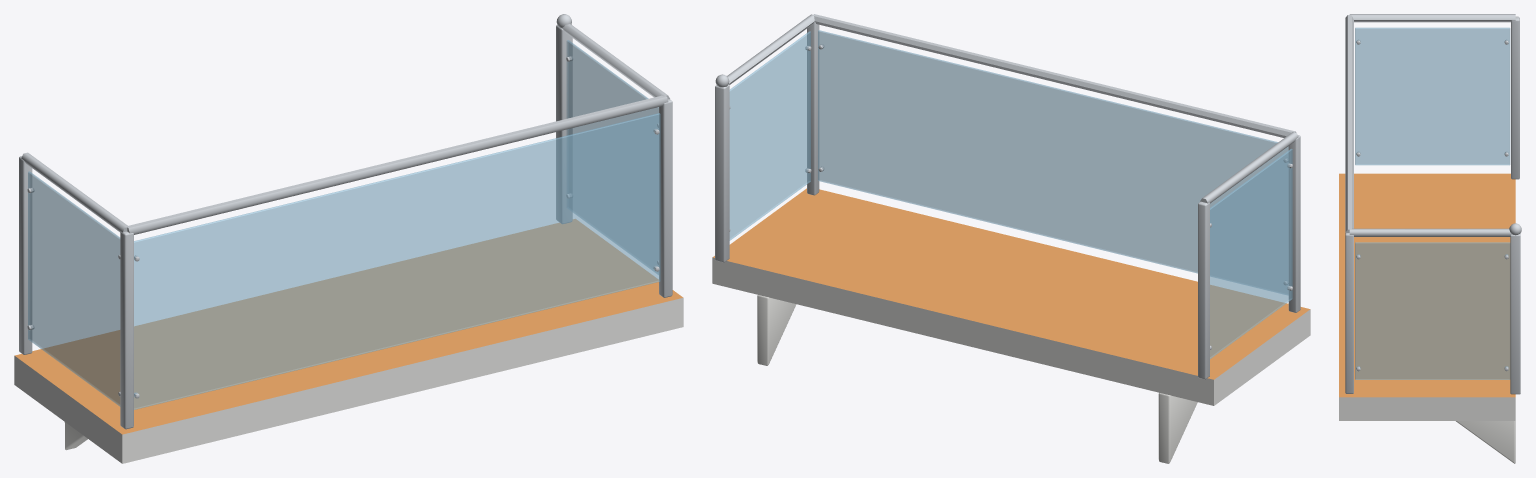
Rendered from sacada_3x1m_vidro.glb.
The picture shows the model from 3 angles, left to right: view 1: azimuth 30°, elevation 25°; view 2: azimuth 150°, elevation 25°; view 3: azimuth 270°, elevation 25°; orthographic projection. The views are drawn at different scales.
Parts seen in each view (by area): view 1: sacada_3x1m_vidro; view 2: sacada_3x1m_vidro; view 3: sacada_3x1m_vidro.
Part boxes in pixels (x1,y1,x2,y2): sacada_3x1m_vidro: [14, 14, 683, 463]; sacada_3x1m_vidro: [712, 14, 1310, 463]; sacada_3x1m_vidro: [1339, 14, 1521, 463].
Size of the model in its own units: 3 by 1.6 by 1.04.
Materials: 4 (1 with a texture image).
